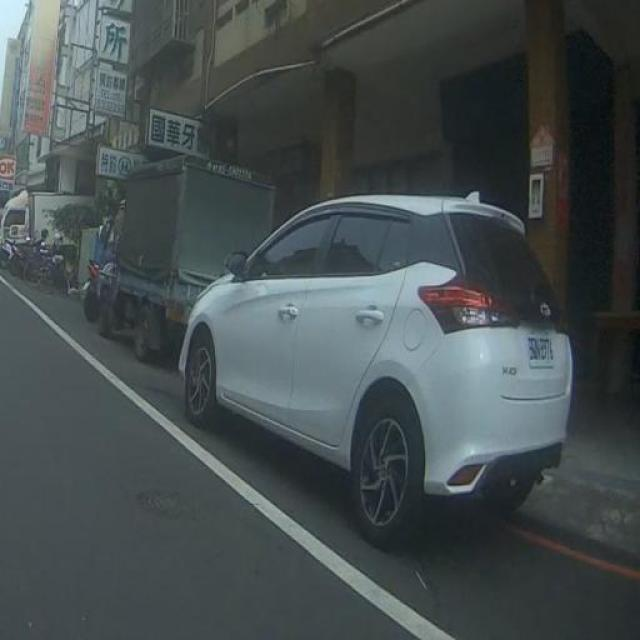illegalparking: (96, 158, 571, 548)
